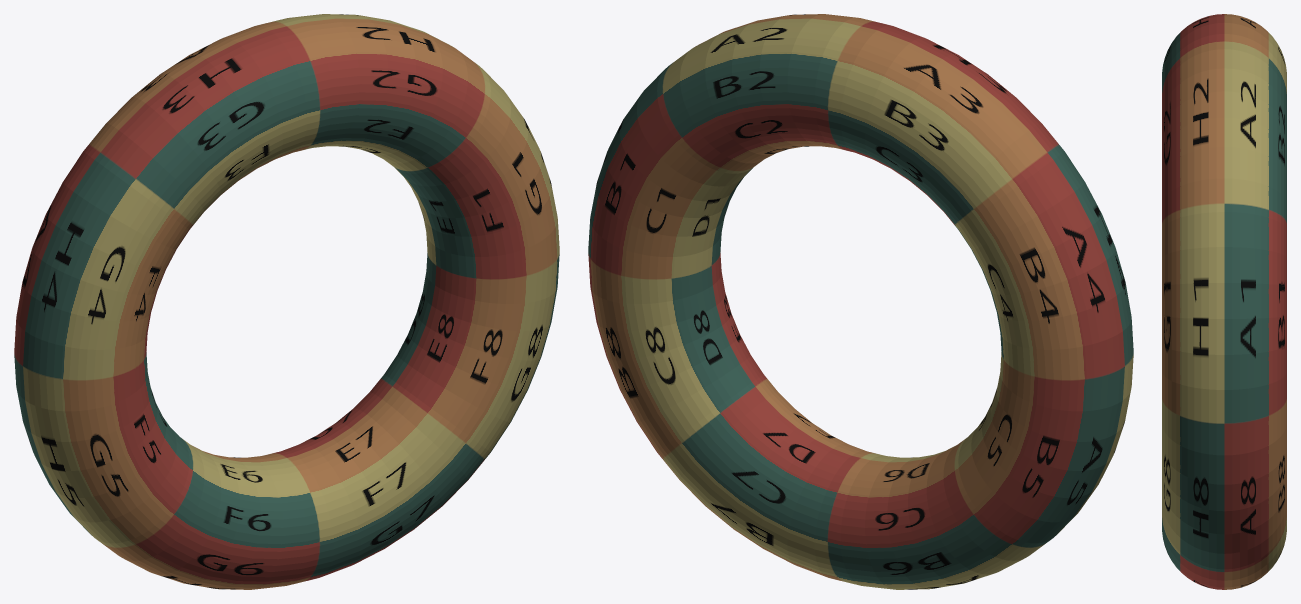
Rendered from texture_torus_R29_r23.glb.
The picture shows the model from 3 angles, left to right: view 1: azimuth 30°, elevation 25°; view 2: azimuth 150°, elevation 25°; view 3: azimuth 270°, elevation 25°; orthographic projection. The views are drawn at different scales.
Parts seen in each view (by area): view 1: world; view 2: world; view 3: world.
Boxes of the visible parts, x1,y1,x2,y2 form: world: (14,14,559,589); world: (588,14,1133,589); world: (1162,14,1286,589).
Size of the model in its own units: 37.47 by 37.39 by 8.12.
Materials: 1 (1 with a texture image).
